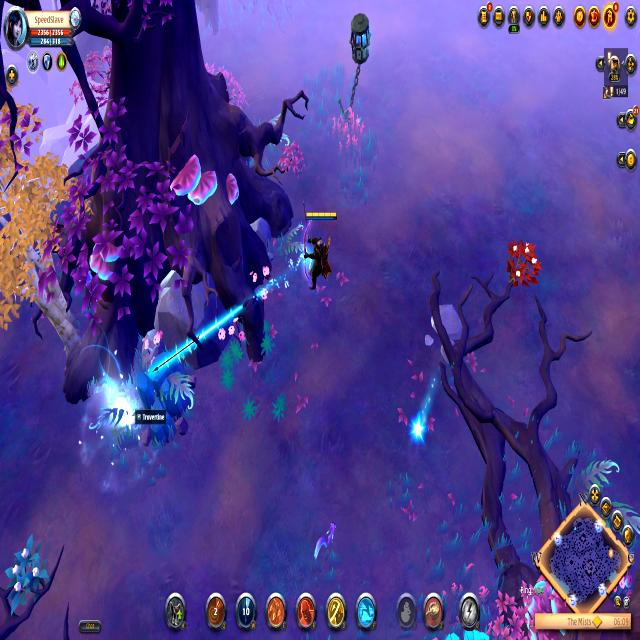10: (340, 9, 373, 127)
hide: (0, 532, 53, 623), (504, 233, 543, 294)
red: (297, 202, 341, 294)
tree: (132, 352, 196, 443)
wisp caged: (0, 111, 86, 335)
